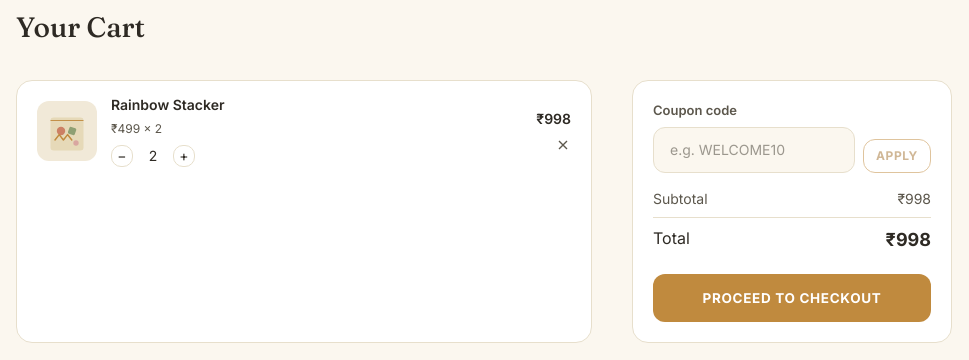
CartPage › removes a line item and shows the empty state once the cart is empty
Expected: the text "2" is shown, [149,147,157,164]
Click the button named "Remove Rainbow Stacker from cart": (563, 145) [555,137,571,153]
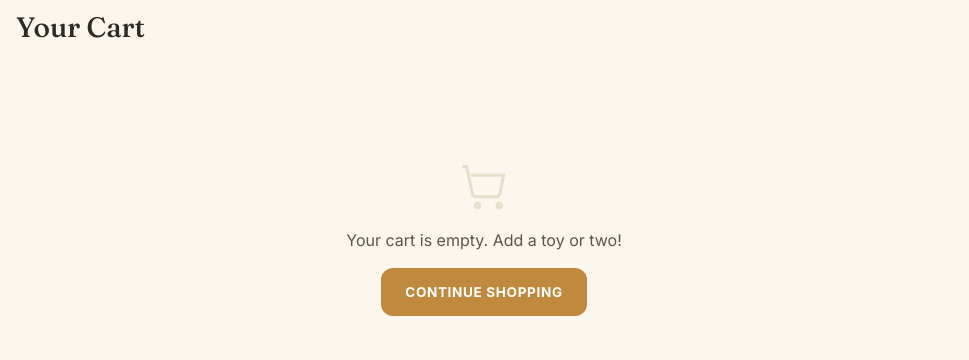
Expected: the text "Your cart is empty. Add a toy or two!" is shown, [346,228,622,252]
